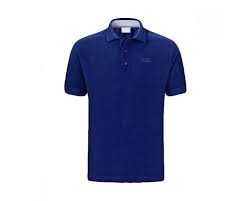S_polo shirt: (68, 17, 187, 187)
